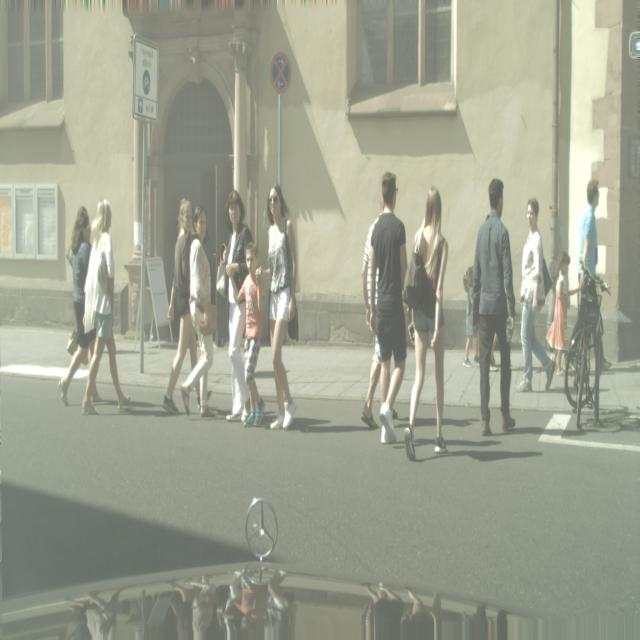car: (564, 262, 612, 425)
person: (403, 186, 448, 461), (472, 179, 517, 435), (368, 171, 409, 447), (81, 198, 132, 416), (516, 197, 556, 394), (57, 206, 96, 408), (162, 198, 198, 414), (181, 206, 217, 421), (267, 185, 298, 430), (572, 169, 607, 386), (223, 190, 253, 422), (234, 241, 266, 428), (360, 186, 383, 430), (547, 251, 572, 374)
